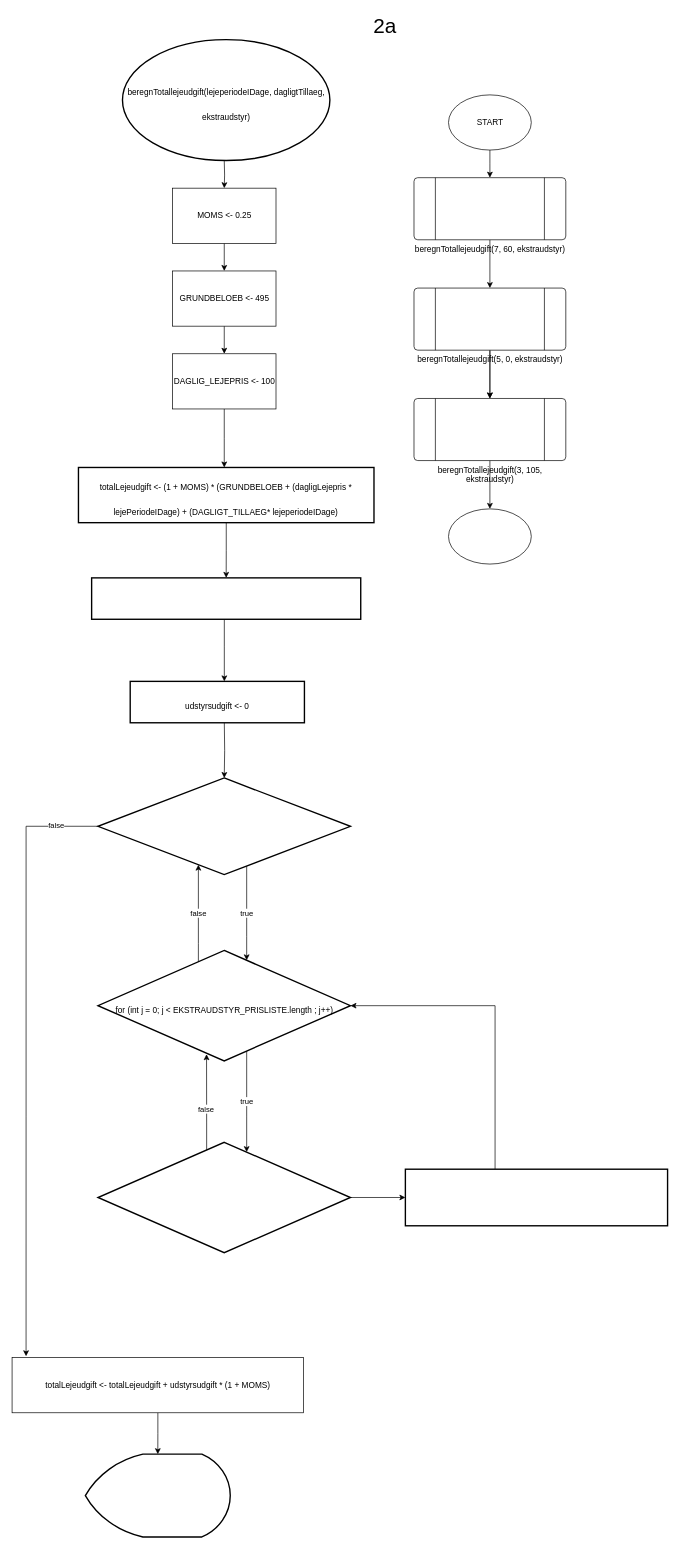
Some shapes in this 680 by 1549 pixel diagram are drawn without their labels. The shapes that lost their labels are listed below. From the top down, each one's centre as x and y in pixels, then its label:
[489,536]: END
[226,598]: EKSTRAUDSTYR_PRISLISTE = [['Ekstra chauffør', 199] ' [...]... ]
[224,826]: for (int i = 0; i < ekstraudstyr .length ; i++)
[224,1197]: EKSTRAUDSTYR_PRISLISTE[j][0] === ekstraudstyr[i]
[536,1197]: udstyrsudgift <- udstyrsudgift + EKSTRAUDSTYR_PRISLISTE[j][1] break;
[157,1495]: "Din totale lejeudgift er:" totalLejeudgift DKK inkl. moms
